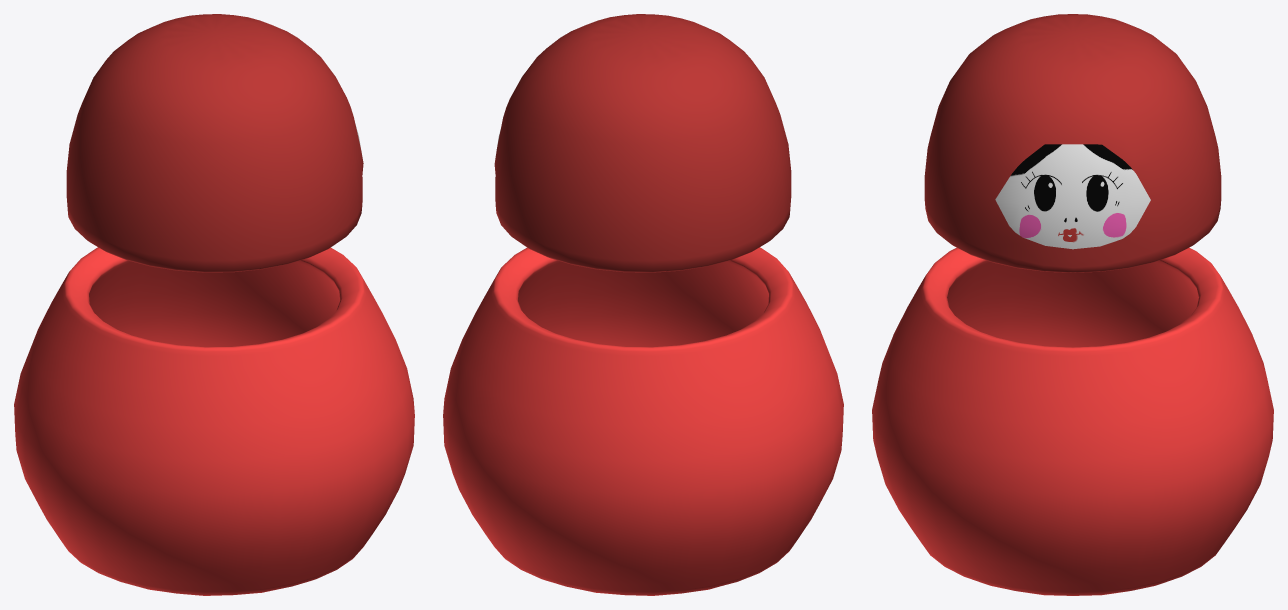
File: Dollblock.fbx
The picture shows the model from 3 angles, left to right: view 1: azimuth 30°, elevation 25°; view 2: azimuth 150°, elevation 25°; view 3: azimuth 270°, elevation 25°; orthographic projection.
Visible parts, largest first — view 1: Doll_body, Doll_head; view 2: Doll_body, Doll_head; view 3: Doll_body, Doll_head.
Boxes of the visible parts, bbox=[...] form: Doll_body: bbox=[14, 247, 414, 595]; Doll_head: bbox=[66, 14, 363, 272]; Doll_body: bbox=[443, 247, 843, 595]; Doll_head: bbox=[494, 14, 791, 272]; Doll_body: bbox=[872, 247, 1273, 595]; Doll_head: bbox=[924, 14, 1221, 272].
Bounding box in the file's own units: 262 × 362 × 262.
